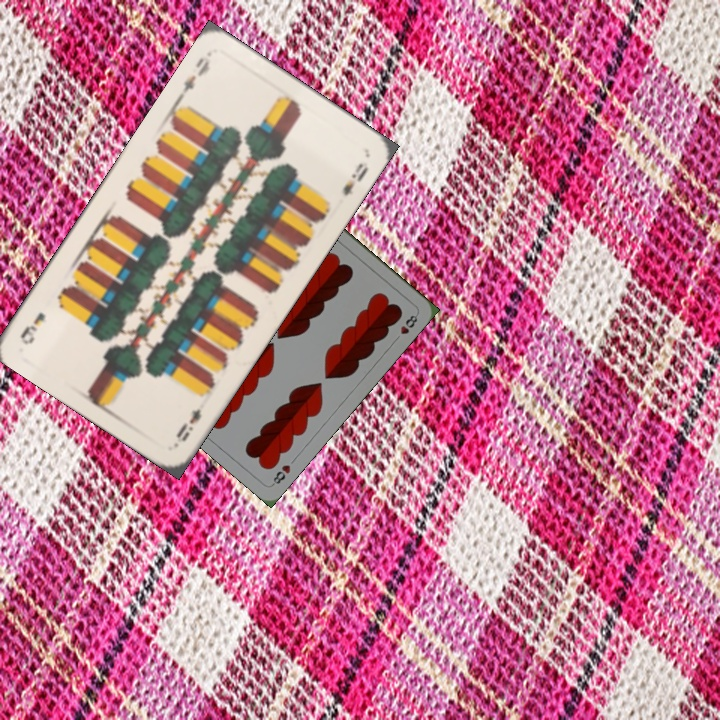E9: (174, 49, 213, 102), (172, 404, 205, 444)
H8: (268, 461, 293, 488)
